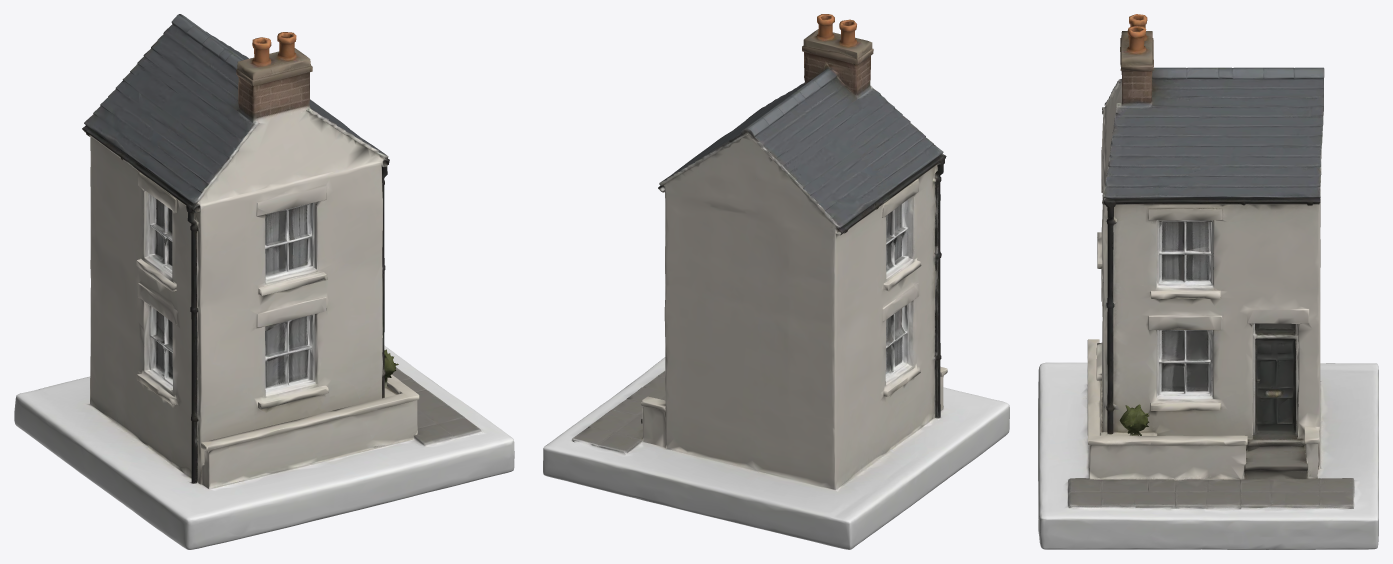
The model's file is home-flat1-hf.glb.
3 views of the same model, side by side, from view 1: azimuth 30°, elevation 25°; view 2: azimuth 150°, elevation 25°; view 3: azimuth 270°, elevation 25° (orthographic). The views are drawn at different scales.
Visible parts, largest first — view 1: tripo_node_ef573d1c-5f3b-41bb-b277-f1cc622d0f4b; view 2: tripo_node_ef573d1c-5f3b-41bb-b277-f1cc622d0f4b; view 3: tripo_node_ef573d1c-5f3b-41bb-b277-f1cc622d0f4b.
Part boxes in pixels (x1=…): tripo_node_ef573d1c-5f3b-41bb-b277-f1cc622d0f4b: x1=14, y1=14, x2=514, y2=549; tripo_node_ef573d1c-5f3b-41bb-b277-f1cc622d0f4b: x1=543, y1=14, x2=1009, y2=549; tripo_node_ef573d1c-5f3b-41bb-b277-f1cc622d0f4b: x1=1038, y1=14, x2=1378, y2=549.
Bounding box in the file's own units: 0.7767 × 1 × 0.7087.
Materials: 1 (1 with a texture image).
